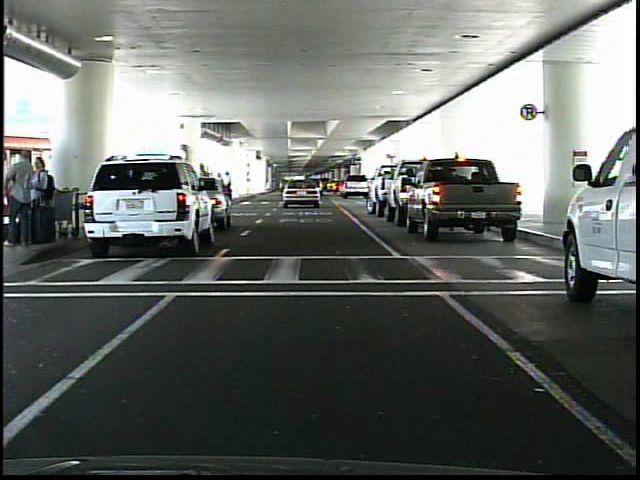person: (7, 148, 40, 246), (29, 157, 57, 247)
